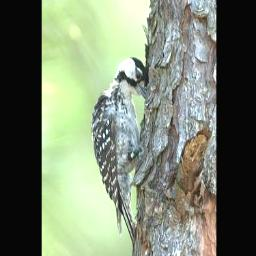Woodpecker: (89, 57, 149, 244)
